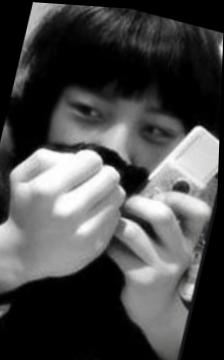WRONG: (32, 65, 203, 237)
